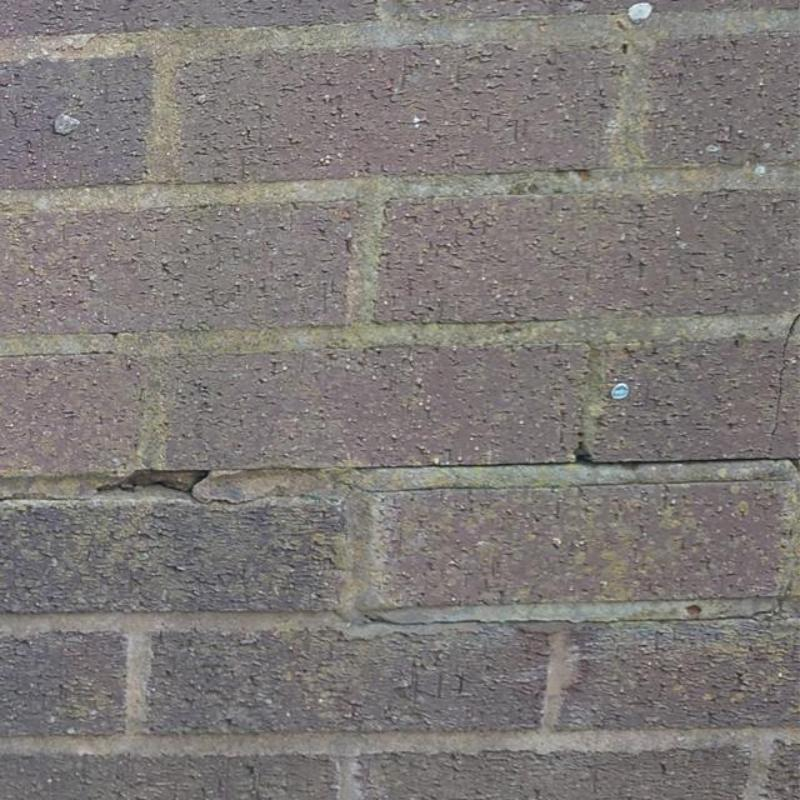pothole: (0, 468, 275, 510), (365, 606, 788, 629), (338, 450, 799, 471), (771, 314, 799, 437)
